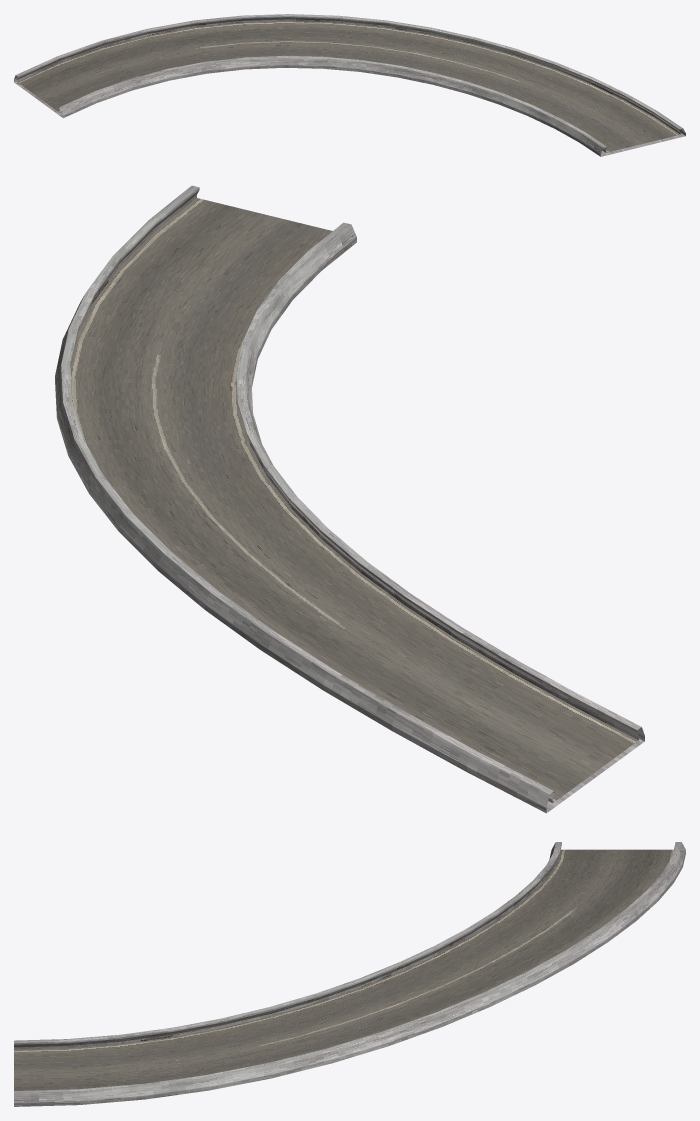
Rendered from road-Turn-Flat-BiSlopeDown-Down1-Left-Size5.glb.
3 views of the same model, one above another, from view 1: azimuth 30°, elevation 25°; view 2: azimuth 150°, elevation 25°; view 3: azimuth 270°, elevation 25° (orthographic). The views are drawn at different scales.
Parts seen in each view (by area): view 1: road-Turn-Flat-BiSlopeDown-Down1-Left-Size5; view 2: road-Turn-Flat-BiSlopeDown-Down1-Left-Size5; view 3: road-Turn-Flat-BiSlopeDown-Down1-Left-Size5.
Boxes of the visible parts, bbox=[...] form: road-Turn-Flat-BiSlopeDown-Down1-Left-Size5: bbox=[14, 14, 685, 156]; road-Turn-Flat-BiSlopeDown-Down1-Left-Size5: bbox=[55, 185, 644, 813]; road-Turn-Flat-BiSlopeDown-Down1-Left-Size5: bbox=[14, 842, 685, 1106].
Bounding box in the file's own units: 5 × 0.4802 × 5.
Materials: 2 (2 with a texture image).
